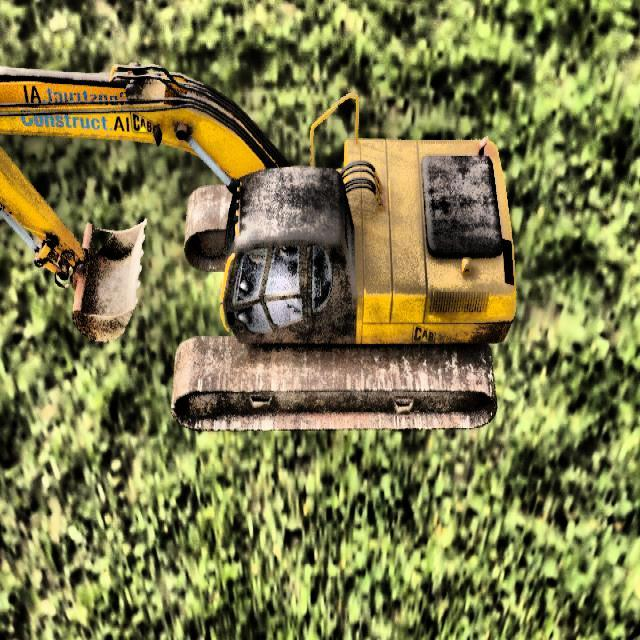excavator: (0, 61, 517, 431)
